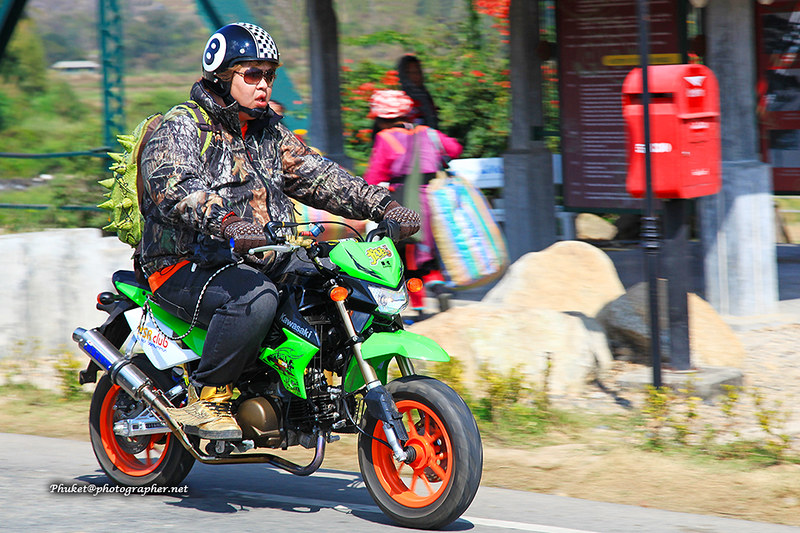helmet: (200, 23, 287, 83)
